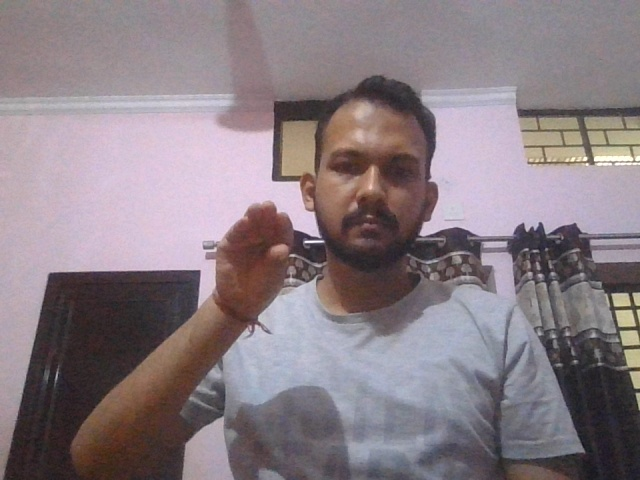no: (214, 201, 299, 318)
